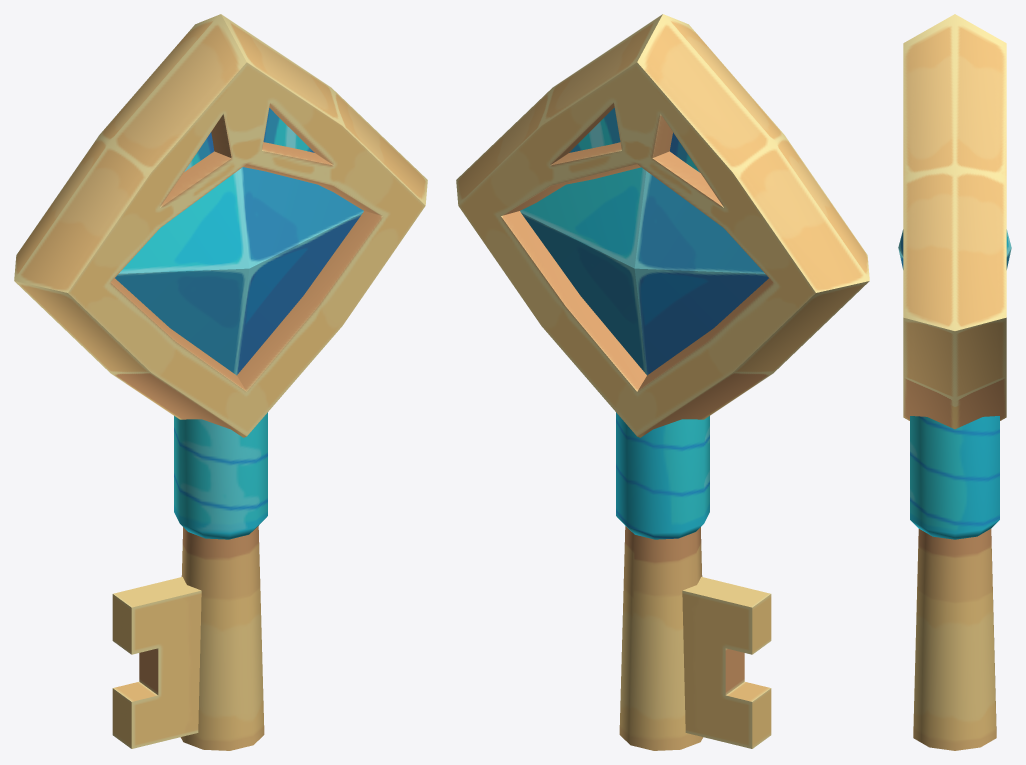
The model's file is bossKey_Water_MESH.fbx.
3 renders of one model, left to right at view 1: azimuth 30°, elevation 25°; view 2: azimuth 150°, elevation 25°; view 3: azimuth 270°, elevation 25°, orthographic.
Parts seen in each view (by area): view 1: bossKey_Water_MESH; view 2: bossKey_Water_MESH; view 3: bossKey_Water_MESH.
Boxes of the visible parts, bbox=[...] form: bossKey_Water_MESH: bbox=[14, 14, 427, 750]; bossKey_Water_MESH: bbox=[456, 14, 869, 750]; bossKey_Water_MESH: bbox=[898, 14, 1011, 750].
Size of the model in its own units: 5.93 by 9.85 by 1.41.
